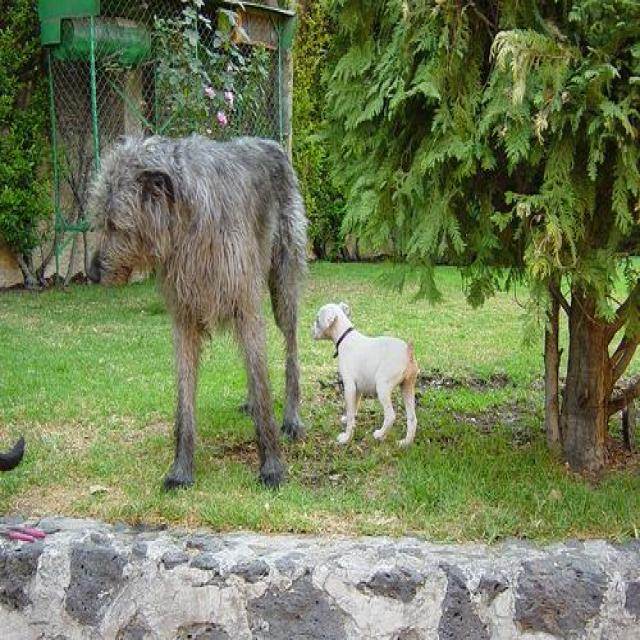irish_wolfhound: (86, 128, 310, 483)
